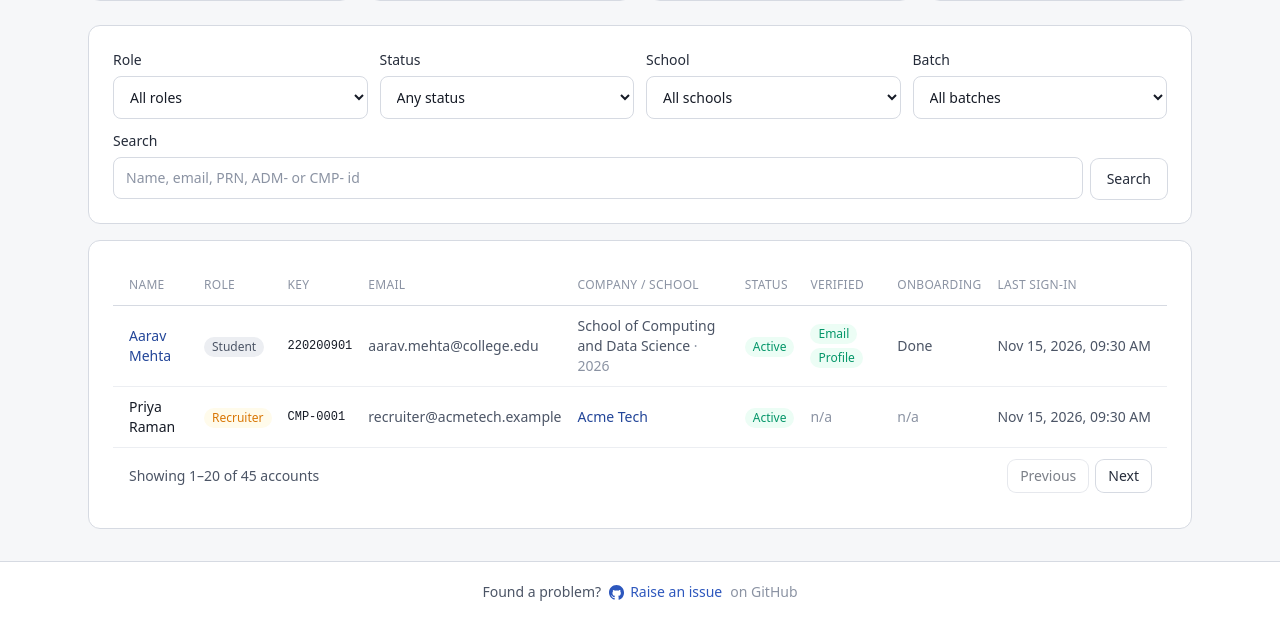
Test case: all users page › goes back to page one after searching
(page scrolled)
expect the text "Showing 1–20 of 45 accounts" is shown: met, box [129,466,319,486]
Click the button "Next" at (1124, 476), box [1096,460,1151,492]
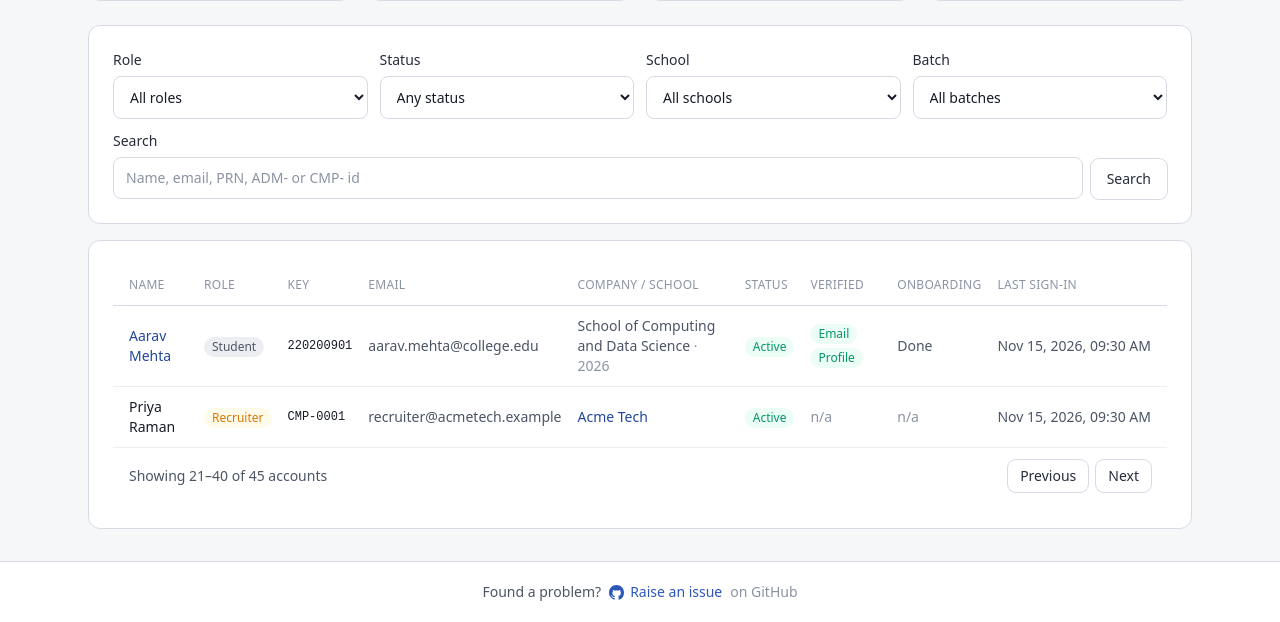
expect the text "Showing 21–40 of 45 accounts" is shown: met, box [129,466,327,486]
Type "rhea" into the field labelled "Search" at (598, 178), box [113,157,1083,199]
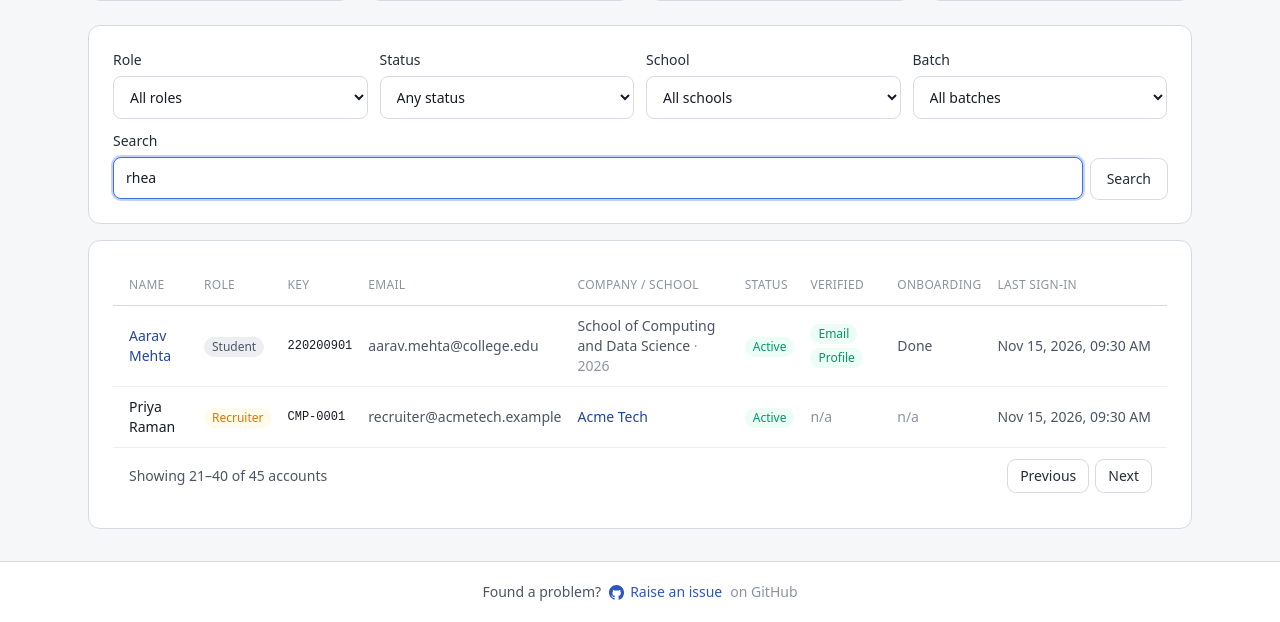
Click the button "Search" at (1129, 179), box [1091,159,1167,199]
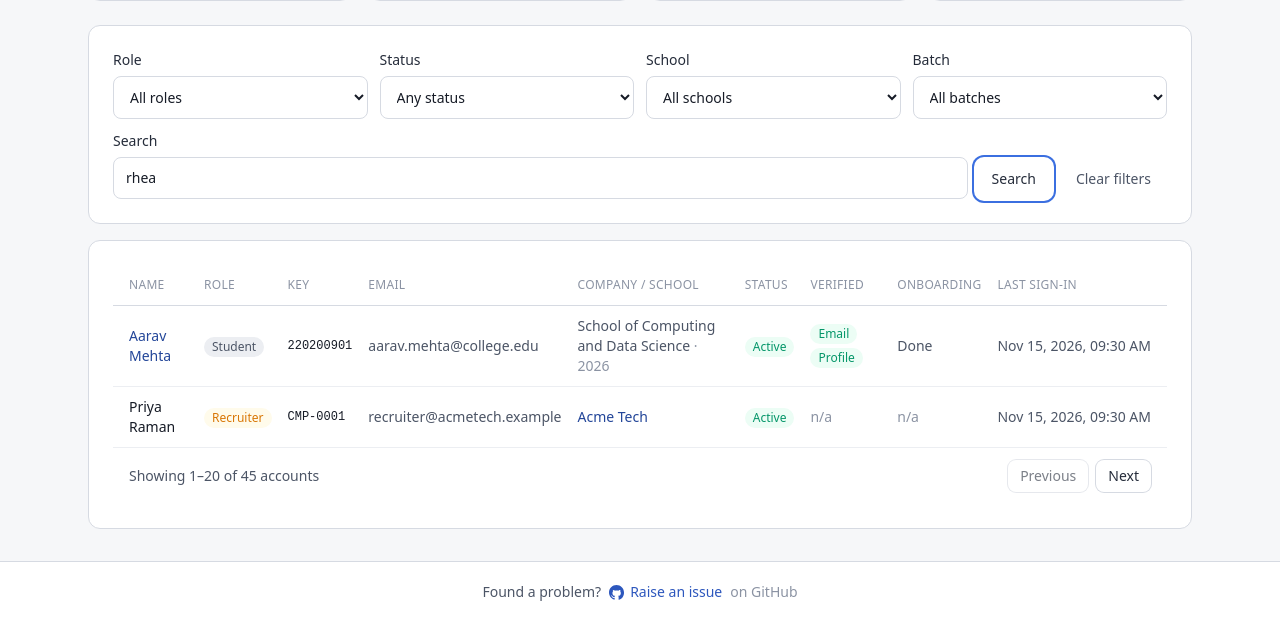
expect the text "Showing 1–20 of 45 accounts" is shown: met, box [129,466,319,486]
